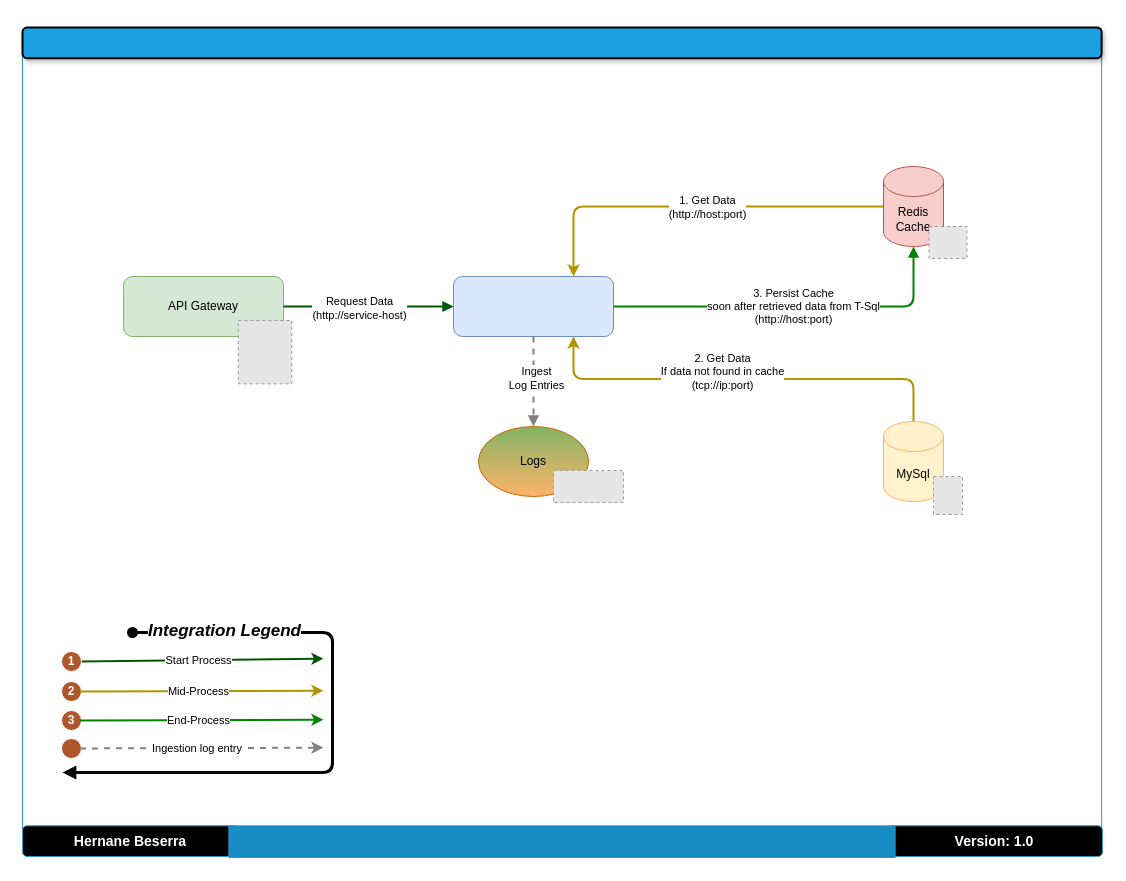
Some shapes in this 1126 by 881 pixel diagram are drawn without their labels. Grey dashed boxes stand in for pictures. Each missing label, with the centre of its shape:
Consolidation (CQRS) - Data-Flow Diagram: the point at 562,44
Query Service: the point at 533,306
